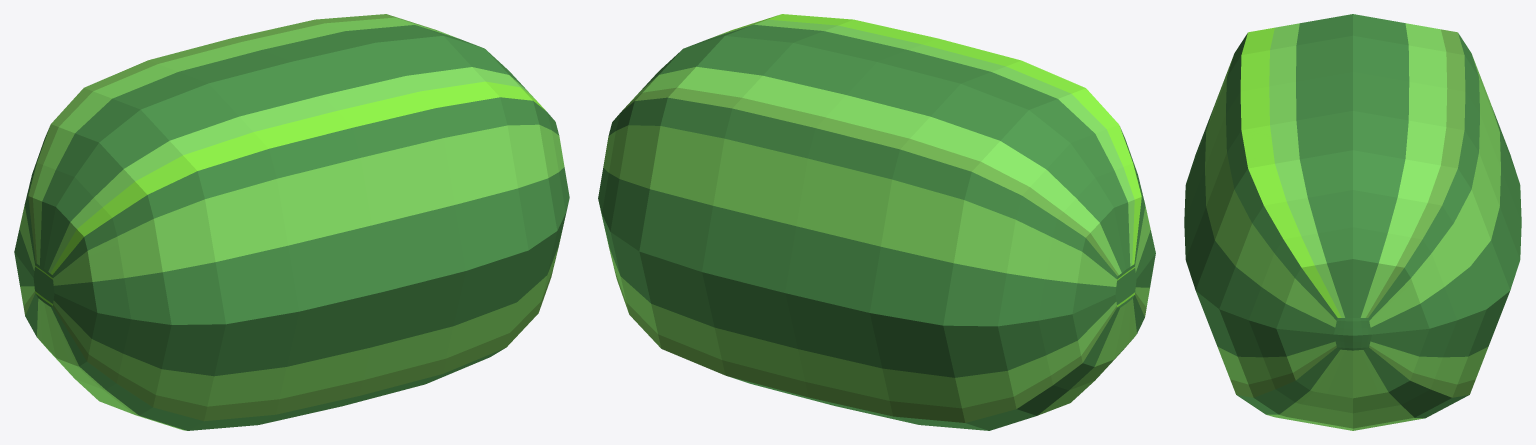
Rendered from Watermelon.fbx.
3 views of the same model, side by side, from view 1: azimuth 30°, elevation 25°; view 2: azimuth 150°, elevation 25°; view 3: azimuth 270°, elevation 25° (orthographic). The views are drawn at different scales.
Visible parts, largest first — view 1: watermelon; view 2: watermelon; view 3: watermelon.
Boxes of the visible parts, x1,y1,x2,y2 form: watermelon: [14, 14, 569, 430]; watermelon: [598, 14, 1155, 430]; watermelon: [1184, 14, 1521, 430].
Bounding box in the file's own units: 258 × 161 × 164.
